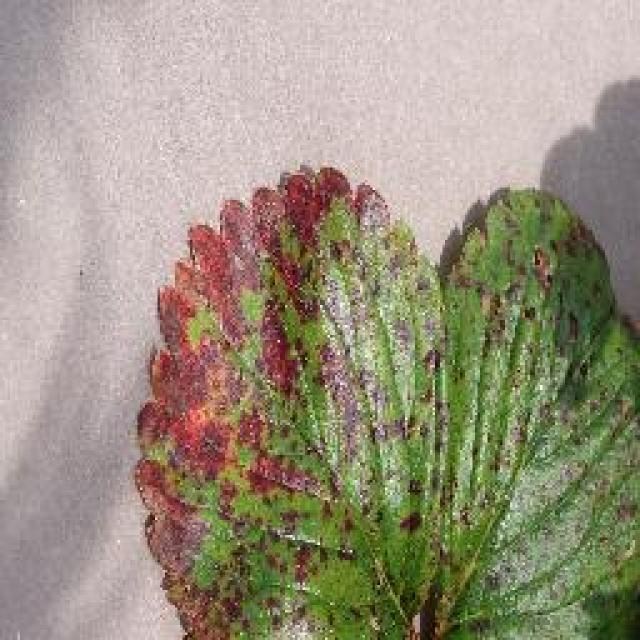Strawberry leaf scorch: (195, 235, 395, 640)
